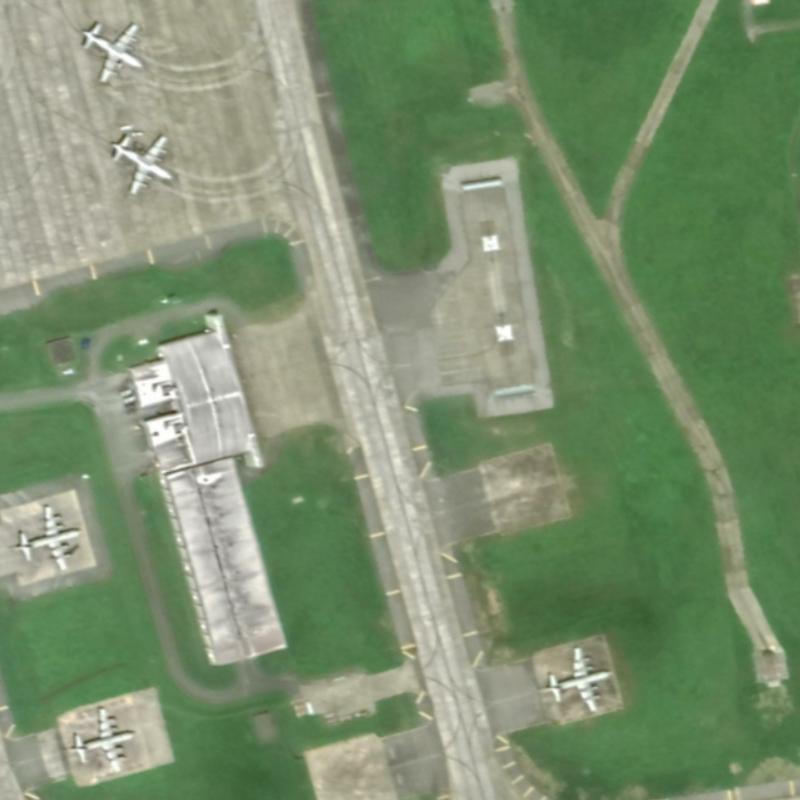A9: (4, 499, 88, 581), (61, 697, 142, 780), (532, 639, 614, 720), (100, 120, 179, 201), (66, 13, 150, 89)
